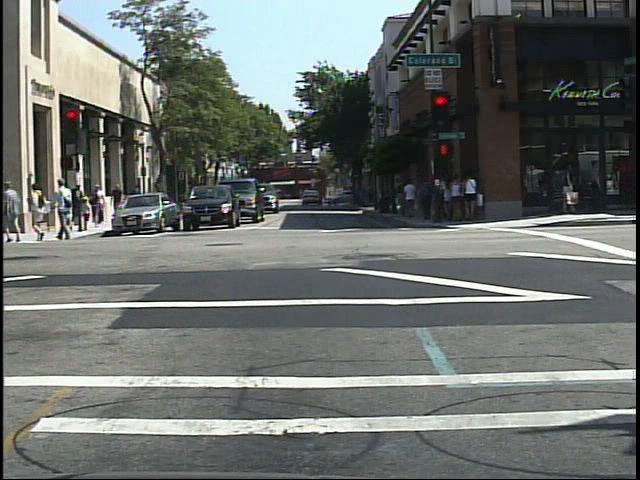person: (53, 175, 79, 244), (5, 175, 27, 247), (27, 184, 52, 243)
